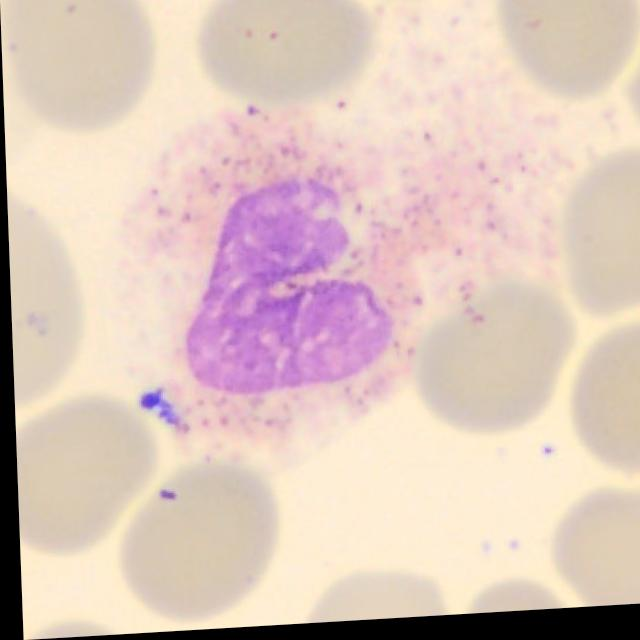Neutrofilo segmentado: (116, 124, 413, 447)
